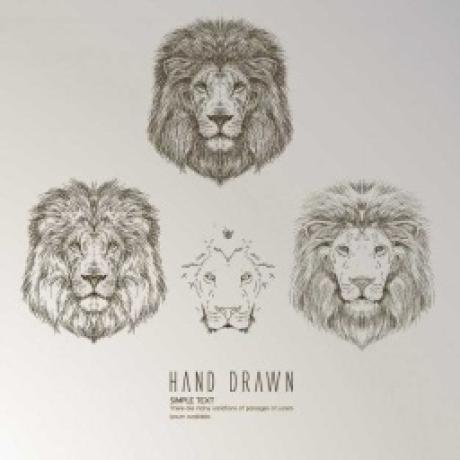Lion: (140, 11, 297, 172), (18, 178, 169, 344), (290, 180, 435, 345)
